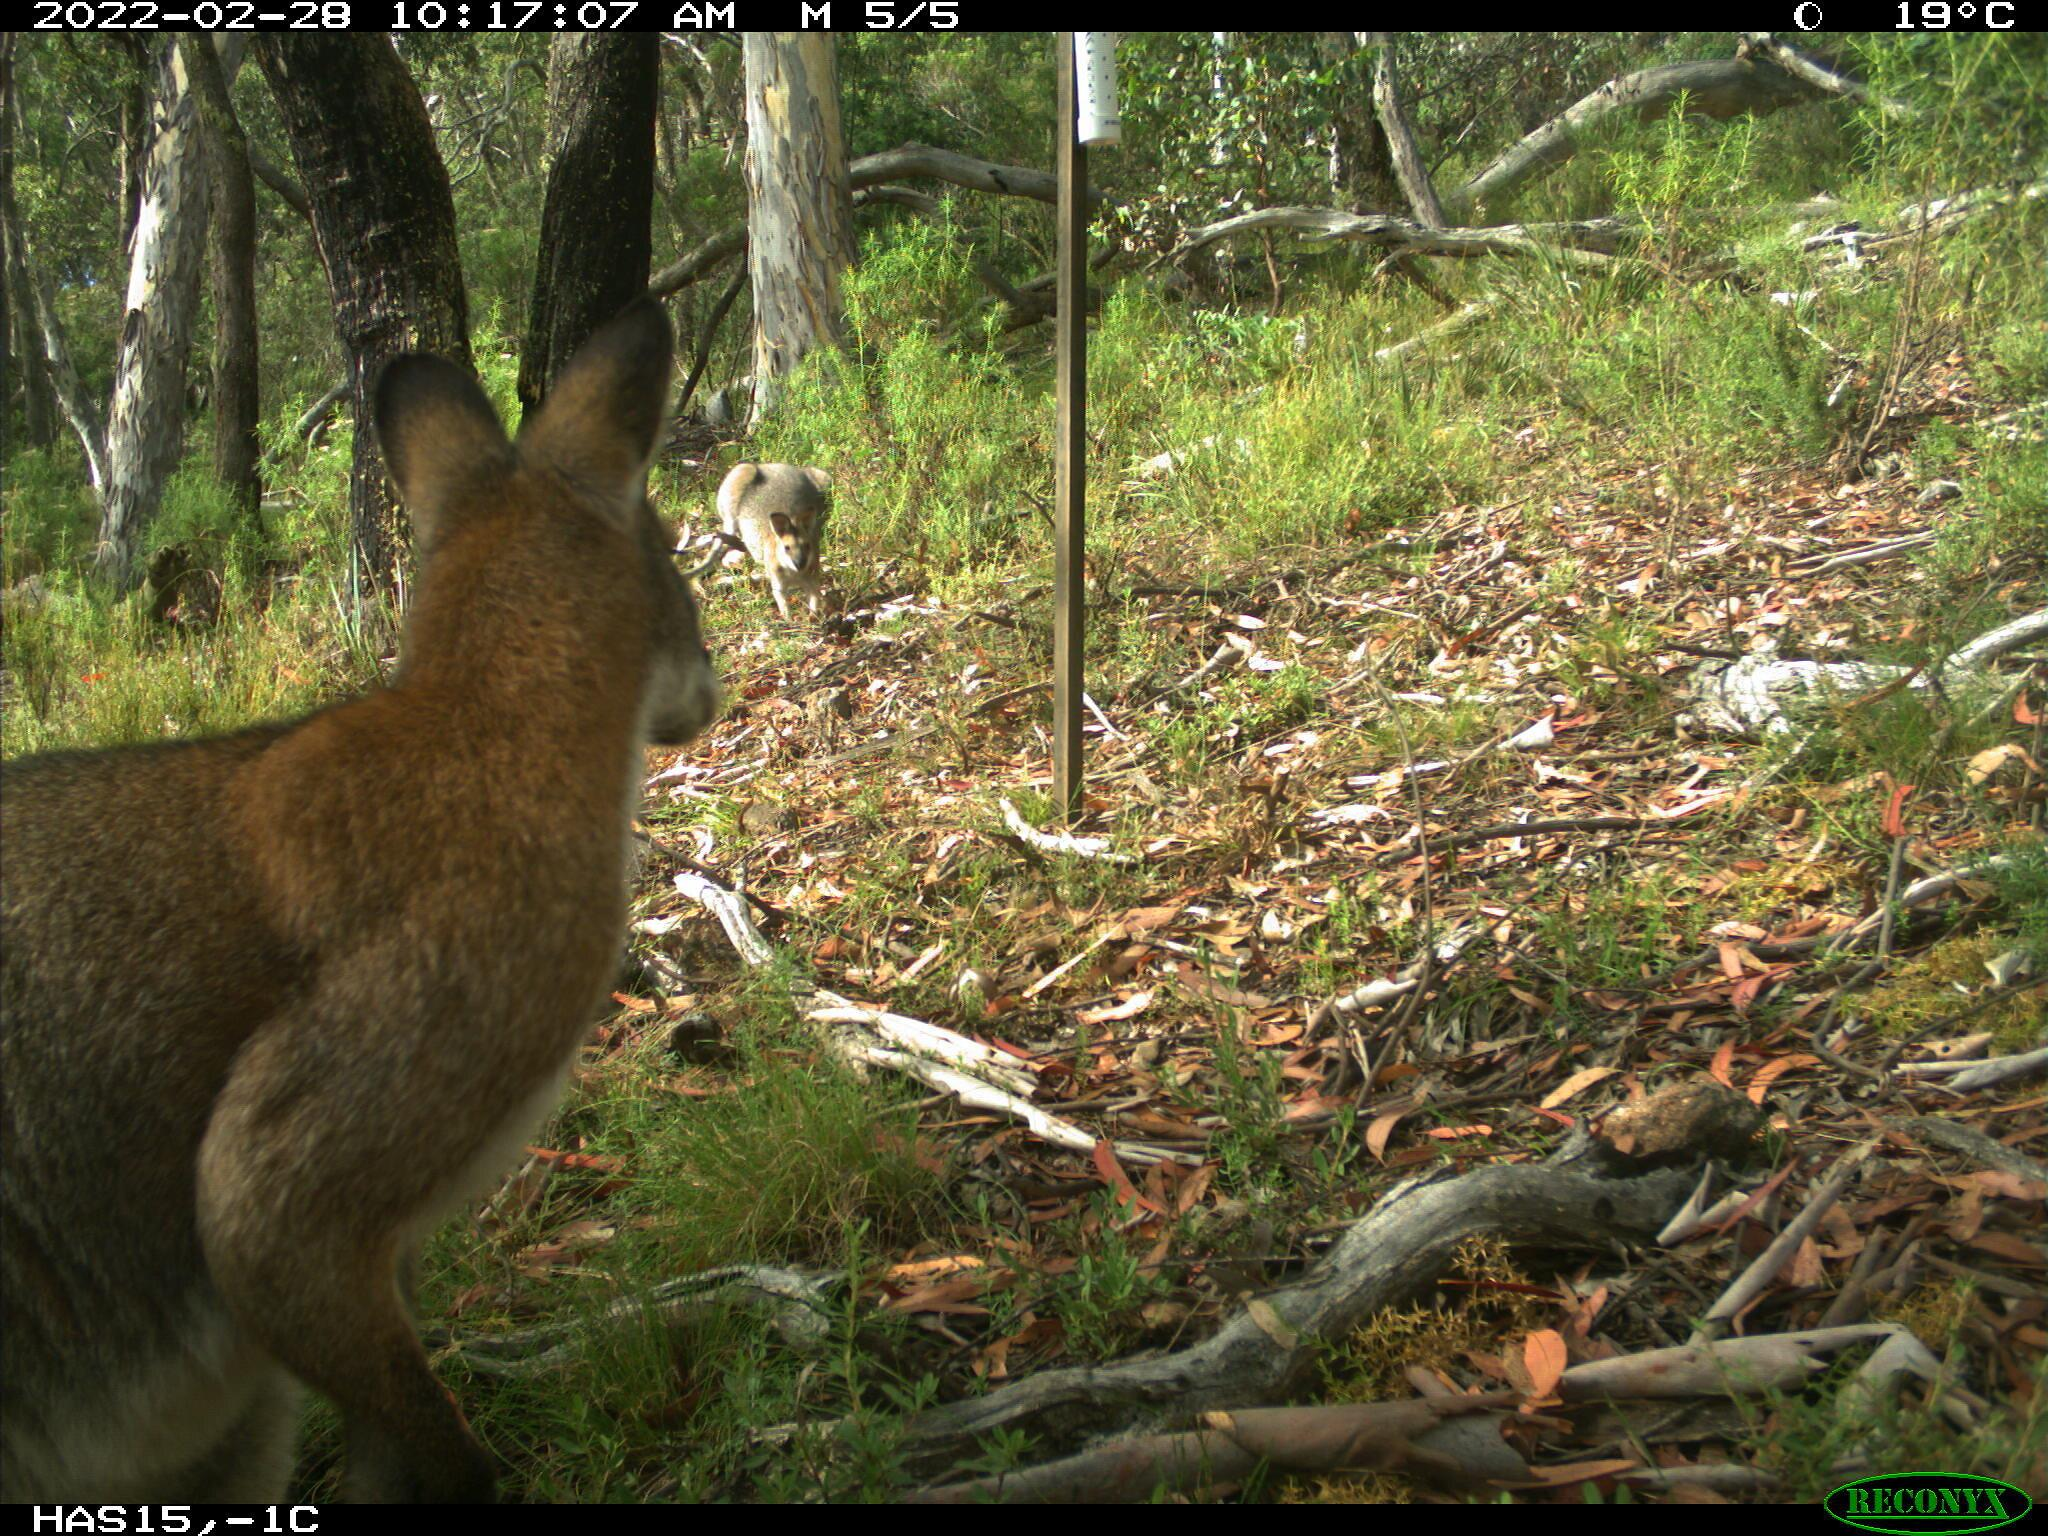Red-necked wallaby: (0, 290, 716, 1504), (710, 461, 842, 618)
